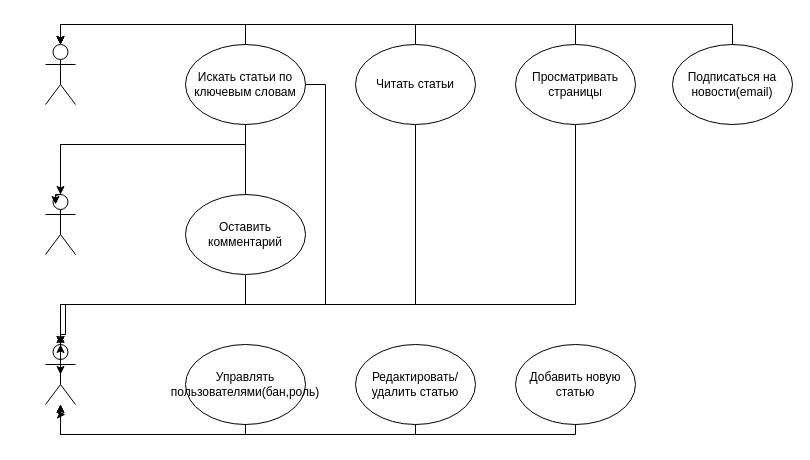
This 810x460 diagram has some shape labels left out. Each missing label, with the box of its shape:
Администратор: (44, 344, 76, 404)
Гость: (44, 44, 76, 104)
Пользователь: (44, 194, 76, 254)
